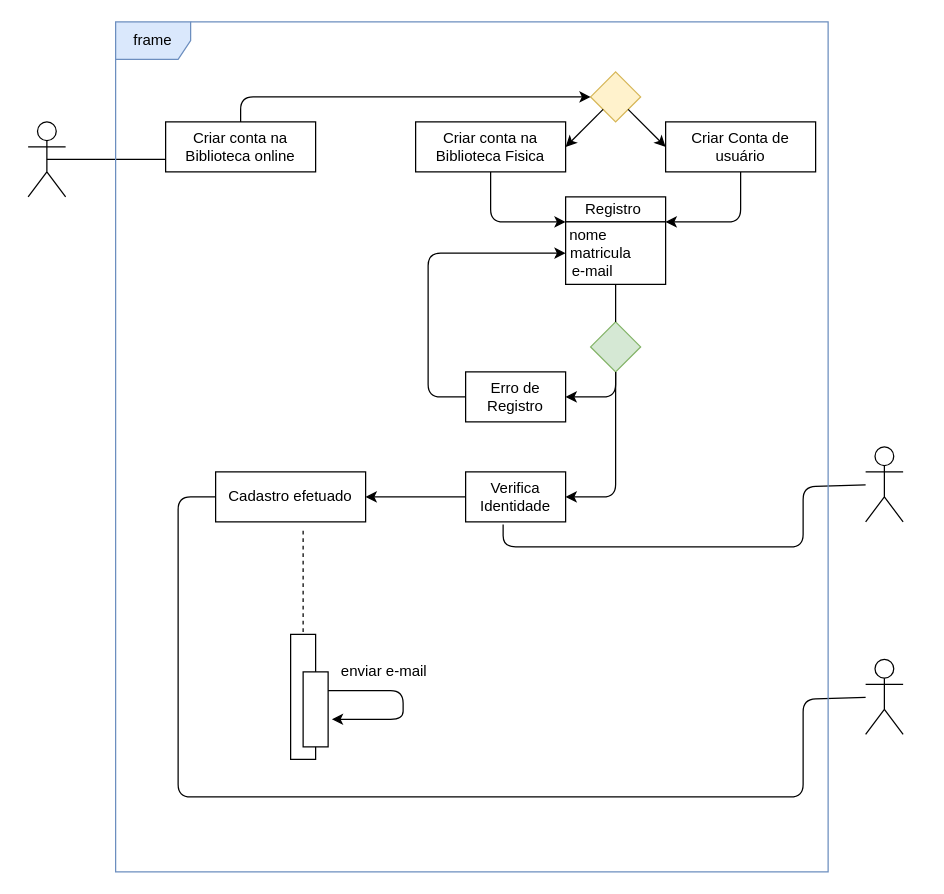
The diagram is 944 pixels wide and 894 high, and some of its shapes have lost their labels. The shapes that lost their labels are listed below. From the top down, each one's box as (x1, y1, x2, y2) in pixels, then its label:
(27, 121, 66, 197): Usuário
(864, 446, 903, 522): Registro de Usuário
(864, 658, 903, 734): Sistema de e-mail
